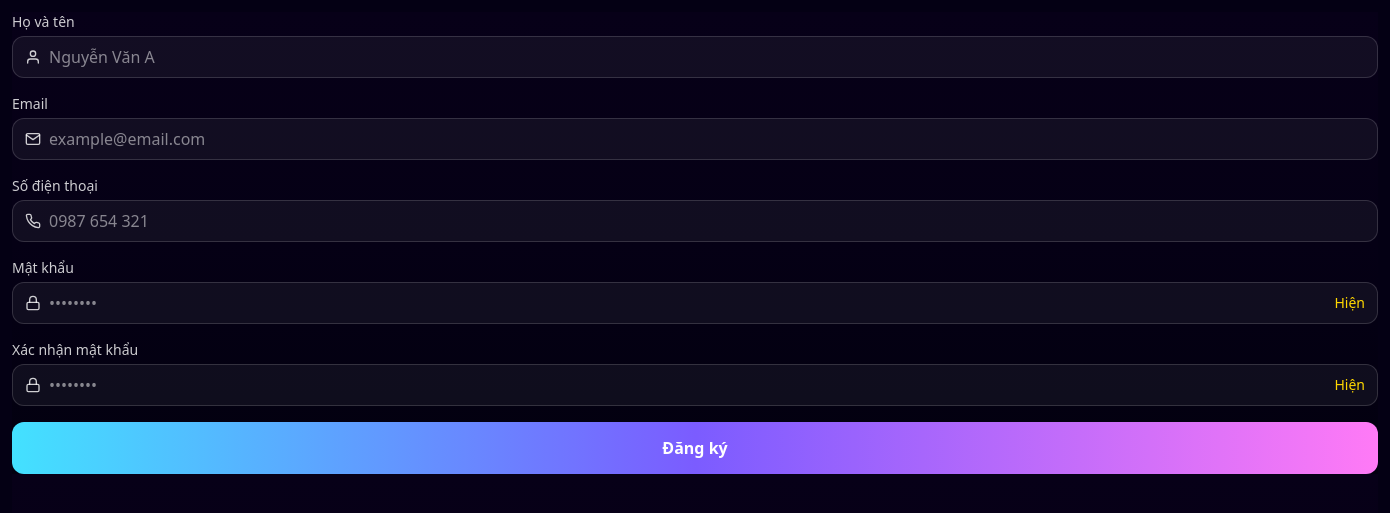
Scenario: RegisterFields › validates invalid email format
The width and height of the screenshot is (1390, 513).
Type "Nguyen Van A" into the field labelled "Họ và tên" at (707,57), box [49,45,1365,69]
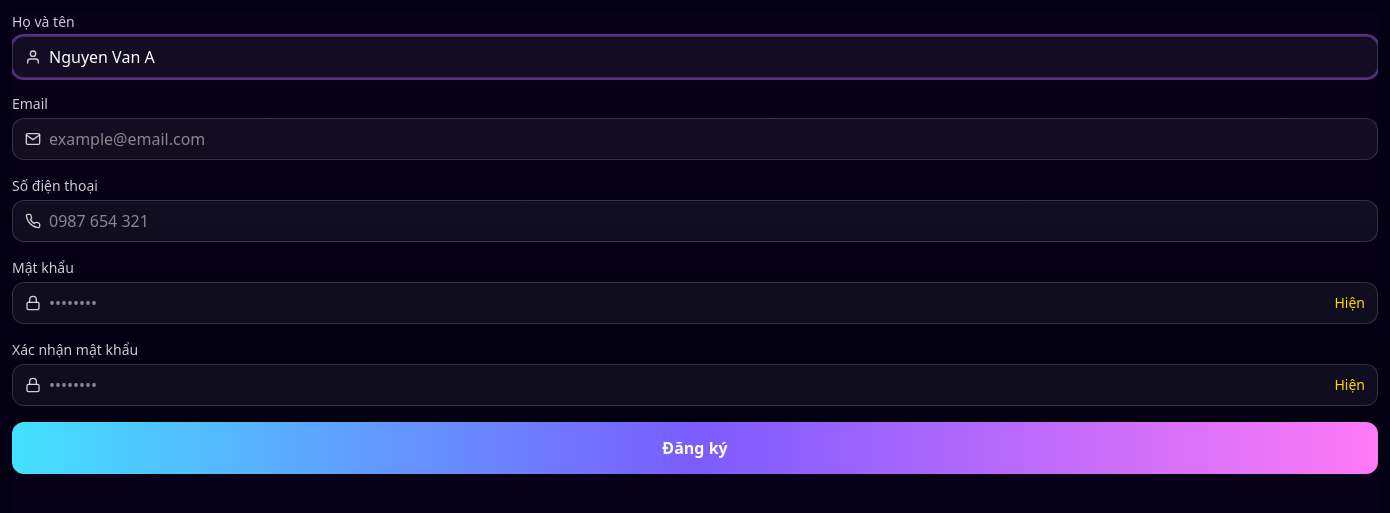
Type "abc" into the field labelled "Email" at (707,139), box [49,127,1365,151]
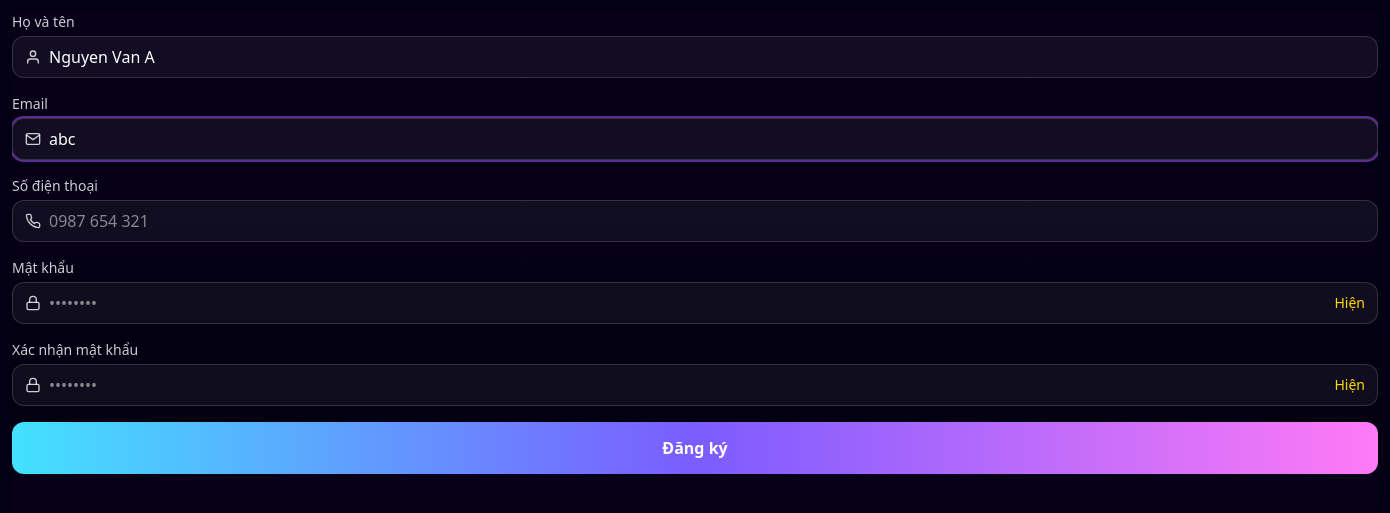
Clear the field labelled "Số điện thoại" at (707,221), box [49,209,1365,233]
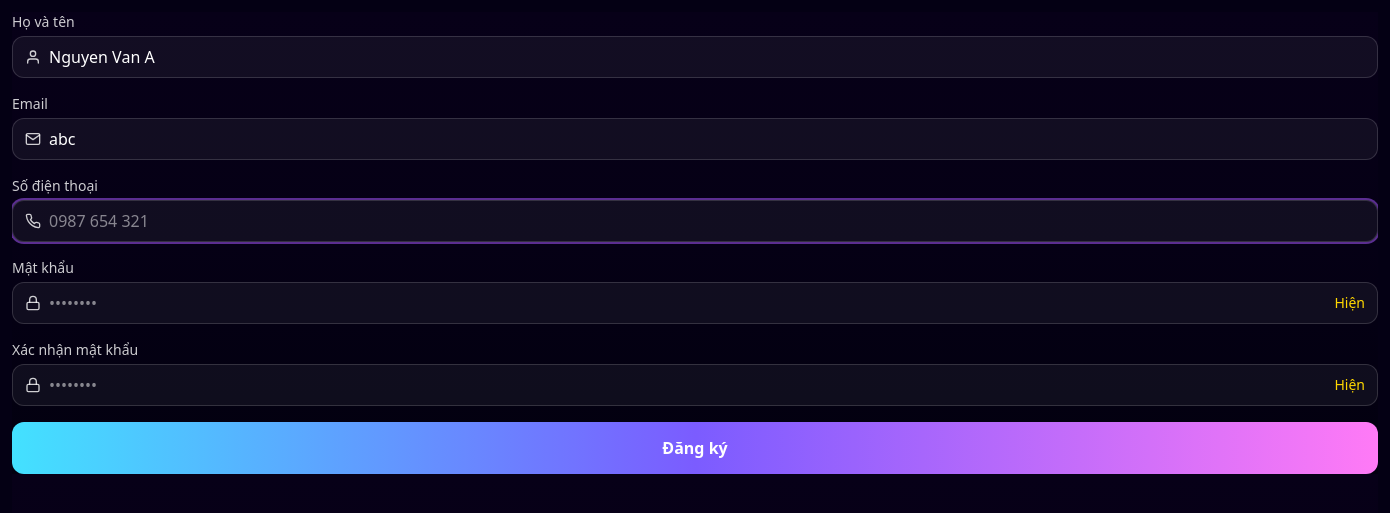
Type "123456" into the password field labelled "Mật khẩu" at (688,303), box [49,291,1326,315]
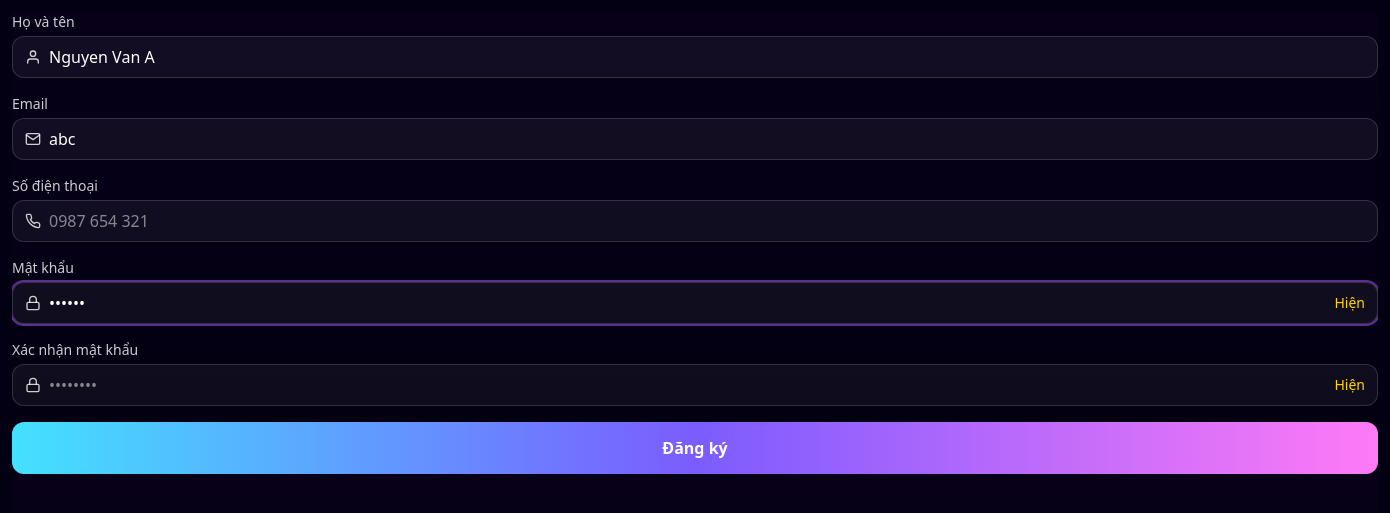
Type "123456" into the password field labelled "Xác nhận mật khẩu" at (688,385), box [49,373,1326,397]
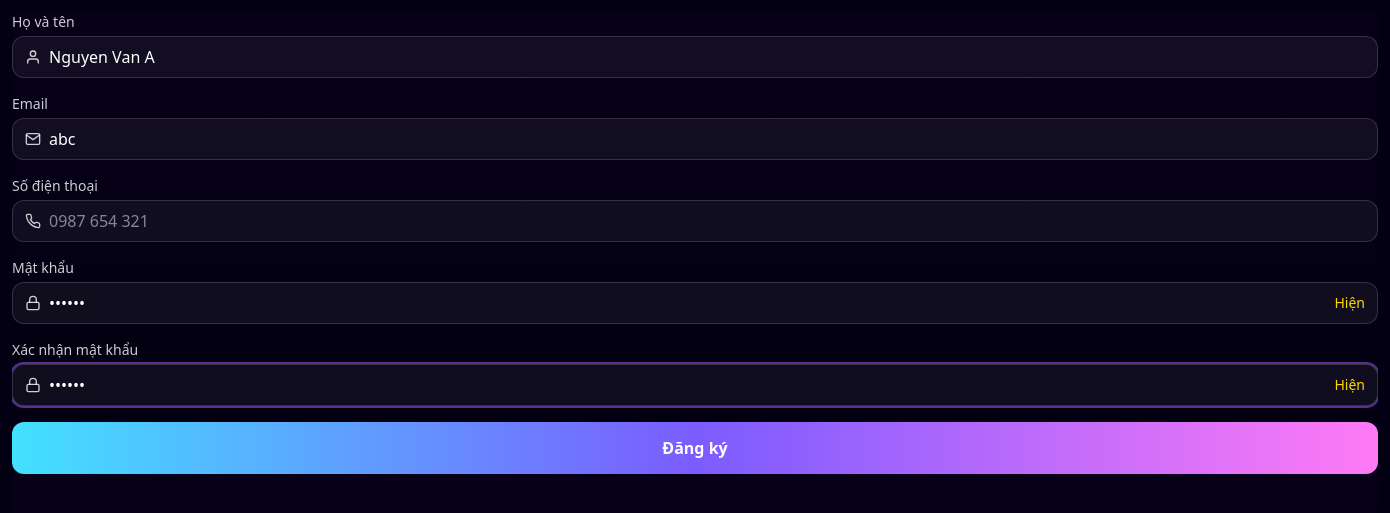
Click the button "Đăng ký" at (695,448), box [12,422,1378,474]
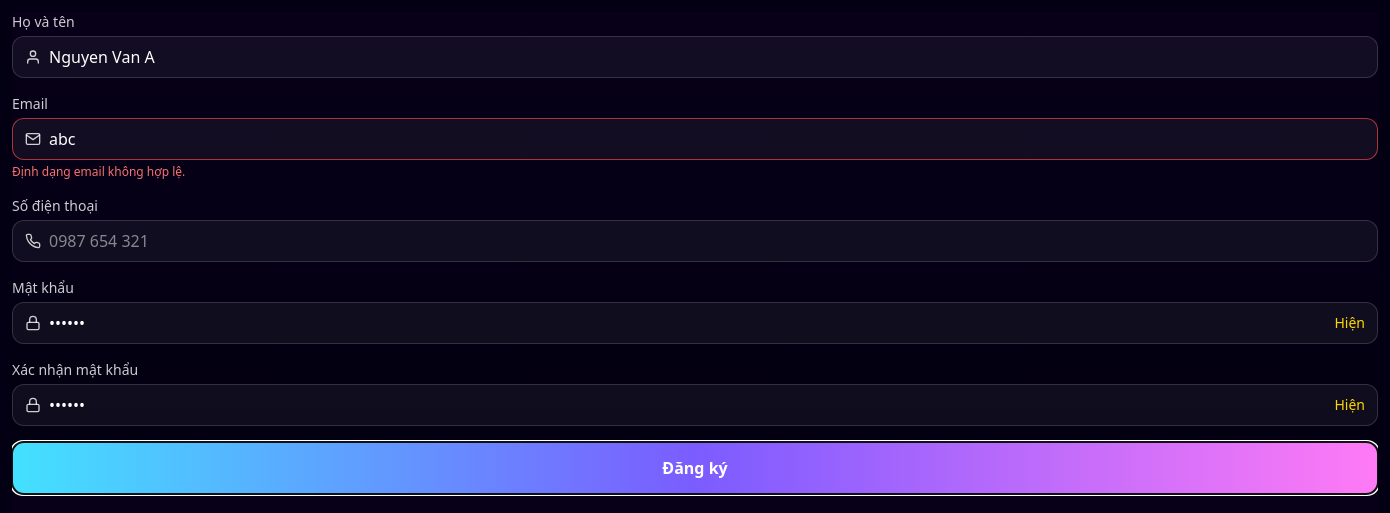
Result: the text "Định dạng email không hợp lệ." is shown at [12,163,185,180]
